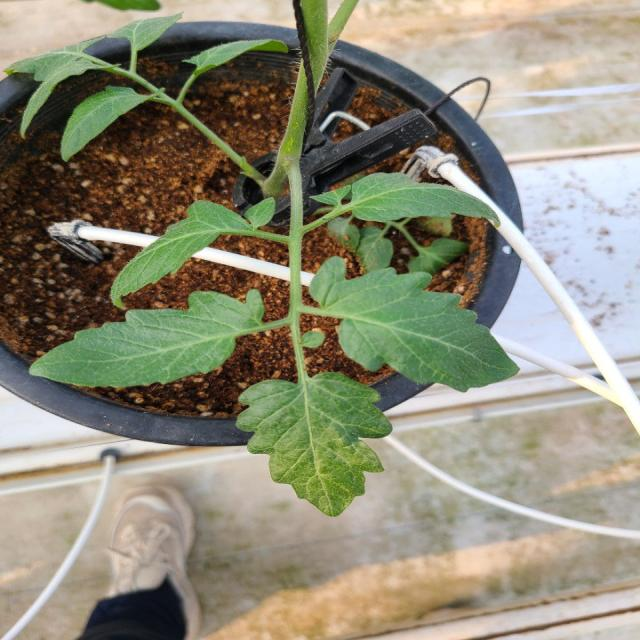Healthy Leaf: (309, 258, 521, 394), (236, 374, 393, 518), (31, 292, 265, 388), (110, 198, 275, 311), (352, 174, 501, 224), (60, 88, 155, 164)
